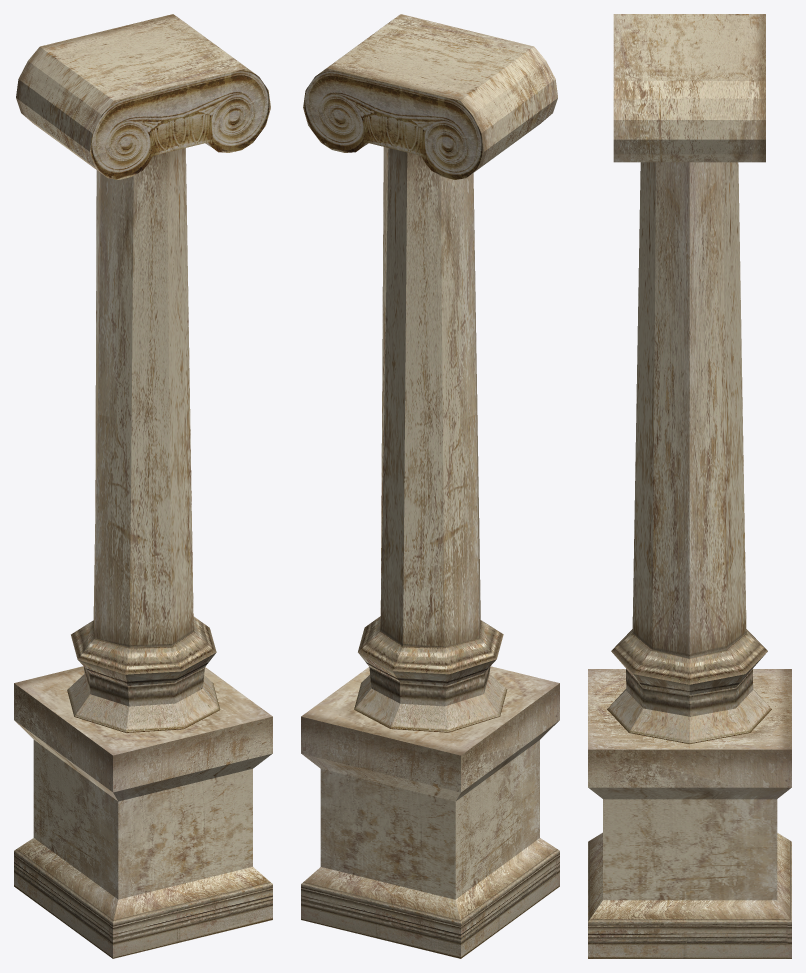
Rendered from svspartapillar7.dae.
3 views of the same model, side by side, from view 1: azimuth 30°, elevation 25°; view 2: azimuth 150°, elevation 25°; view 3: azimuth 270°, elevation 25° (orthographic). The views are drawn at different scales.
Parts seen in each view (by area): view 1: cylinder4_sep40-0; view 2: cylinder4_sep40-0; view 3: cylinder4_sep40-0.
Boxes of the visible parts, box(x1,y1,x2,y2) form: cylinder4_sep40-0: box(14, 14, 272, 958); cylinder4_sep40-0: box(301, 14, 559, 958); cylinder4_sep40-0: box(588, 14, 791, 958).
Bounding box in the file's own units: 101 × 449 × 95.33.
